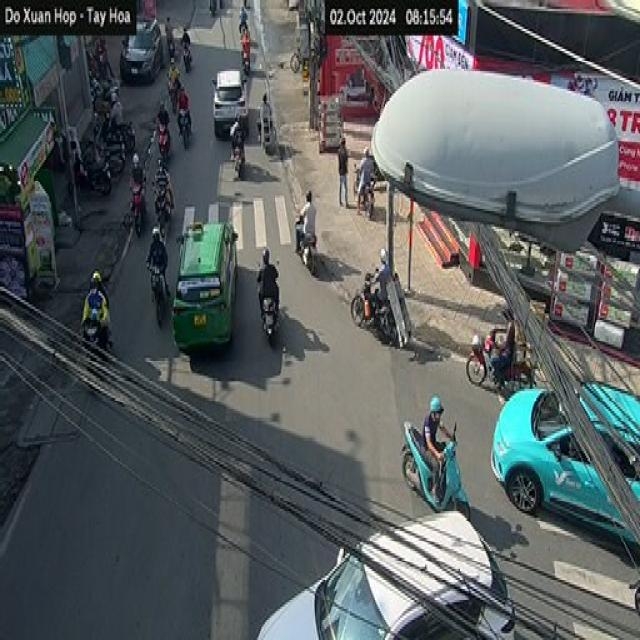car: (251, 511, 525, 640), (487, 373, 640, 550), (175, 209, 240, 349), (111, 11, 169, 87), (210, 50, 253, 136)
motorcycle: (400, 424, 470, 511), (350, 269, 399, 345), (468, 338, 531, 394), (70, 150, 112, 200), (291, 217, 324, 275), (81, 321, 111, 372), (354, 154, 376, 222), (97, 116, 132, 157), (149, 262, 171, 326), (258, 301, 284, 340), (152, 188, 172, 236), (129, 181, 145, 235), (178, 103, 194, 148), (228, 157, 254, 182), (93, 80, 116, 108), (256, 120, 276, 151), (158, 122, 172, 160), (165, 74, 179, 109), (182, 48, 193, 76)
person: (419, 382, 450, 477), (257, 248, 284, 302), (334, 132, 349, 210), (500, 298, 516, 362), (150, 224, 168, 280), (359, 137, 375, 200), (302, 176, 318, 236), (378, 243, 393, 299), (87, 270, 101, 328), (92, 257, 107, 308), (260, 83, 273, 131), (128, 148, 142, 190), (158, 96, 173, 134), (151, 162, 167, 197), (110, 85, 121, 130), (238, 20, 252, 55), (163, 11, 174, 51), (232, 108, 243, 144), (180, 26, 192, 55), (236, 113, 243, 147)
